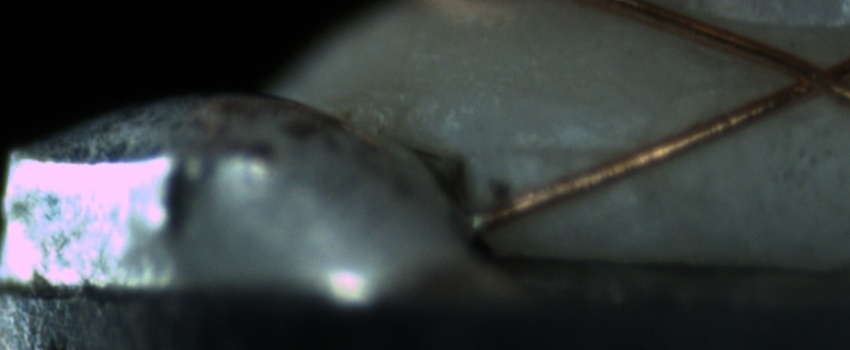CL: (768, 44, 849, 108)
DL: (491, 111, 634, 180)
